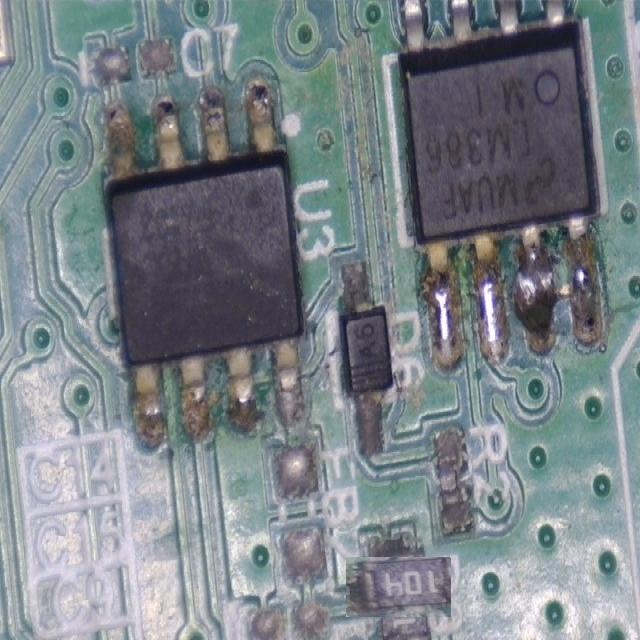Incorrect_installation: (347, 557, 450, 616)
